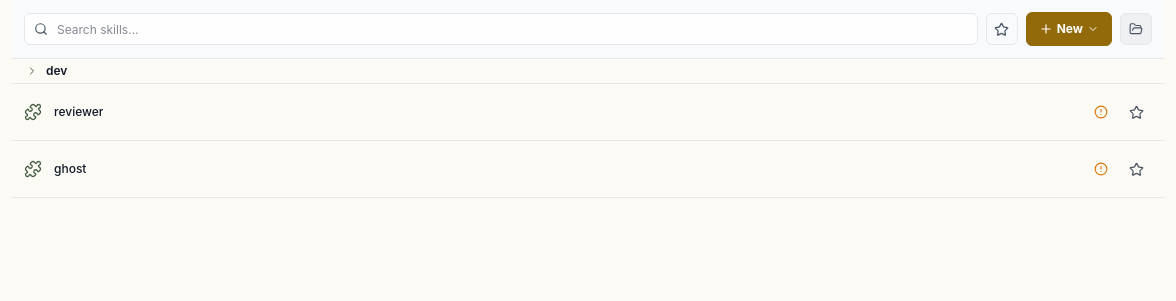
LibraryList › collapses folders by default and expands them via the header toggle
Click the button with test id "library-folder-dev" at {"x": 32, "y": 71}, box [12, 59, 1164, 84]
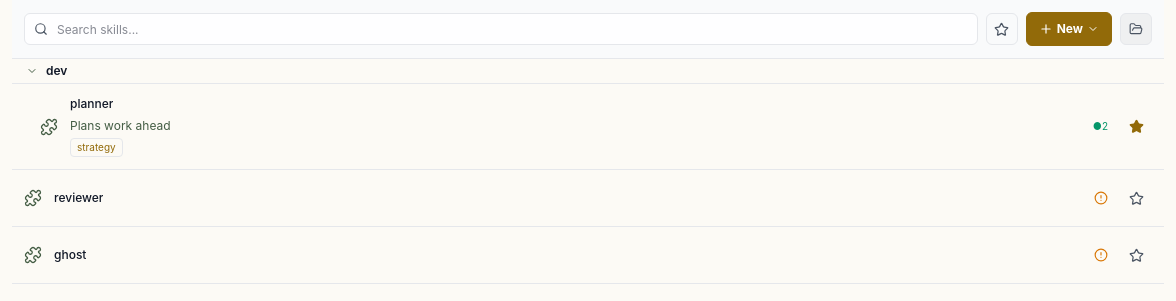
Expected: the button with test id "library-row-skills/dev/planner" is shown, [12, 84, 1164, 170]
Expected: the button with test id "library-folder-dev" is expanded
Click the button with test id "library-folder-dev" at {"x": 32, "y": 71}, box [12, 59, 1164, 84]
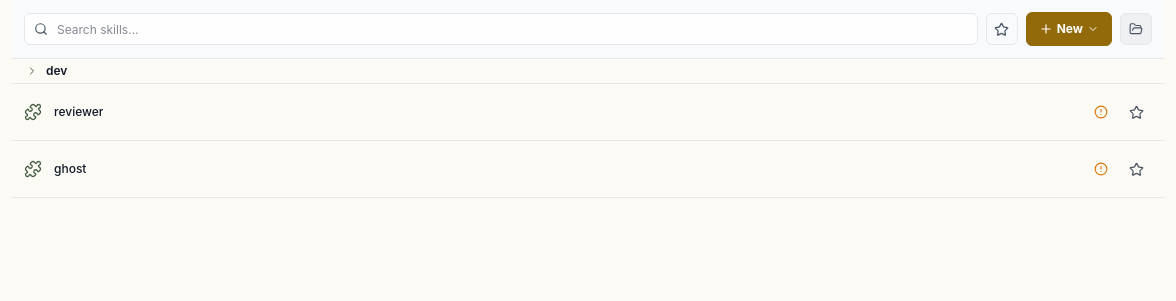
Expected: the button with test id "library-row-skills/dev/planner" is gone
